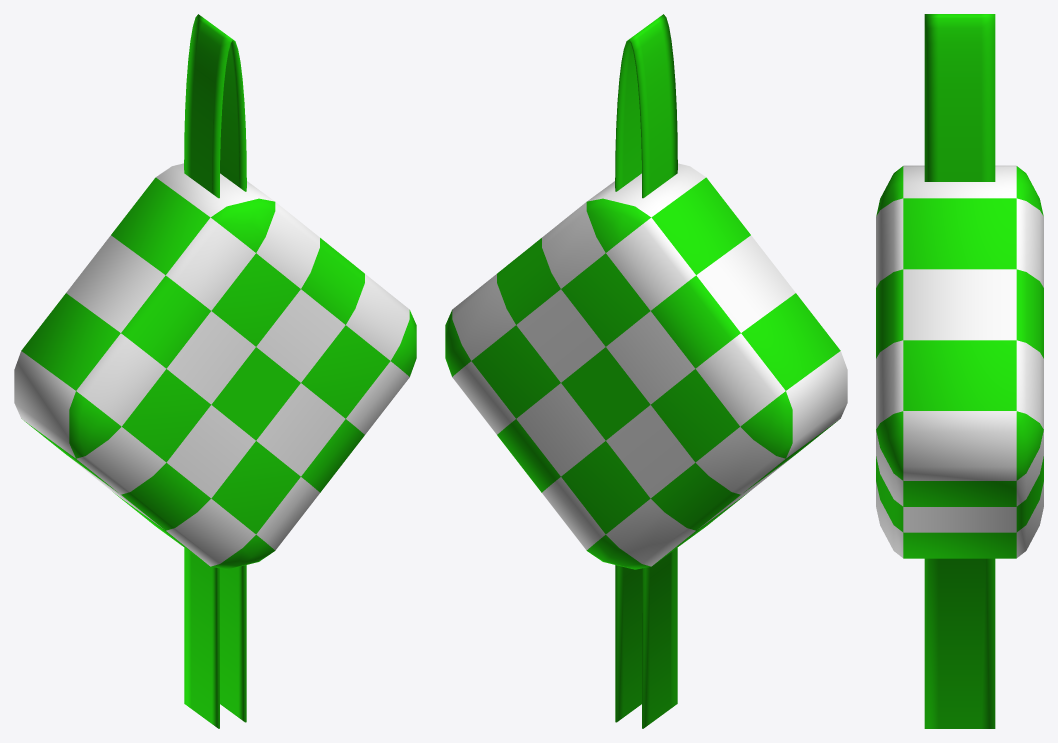
Rendered from kupat.fbx.
The picture shows the model from 3 angles, left to right: view 1: azimuth 30°, elevation 25°; view 2: azimuth 150°, elevation 25°; view 3: azimuth 270°, elevation 25°; orthographic projection. The views are drawn at different scales.
Visible parts, largest first — view 1: Cube, Cylinder; view 2: Cube, Cylinder; view 3: Cube, Cylinder.
Part boxes in pixels (<box>): Cube: <box>14,163,416,569</box>; Cylinder: <box>184,14,246,728</box>; Cube: <box>445,163,847,569</box>; Cylinder: <box>615,14,677,728</box>; Cube: <box>876,165,1043,558</box>; Cylinder: <box>924,14,995,728</box>.
Bounding box in the file's own units: 246 × 466 × 100.
